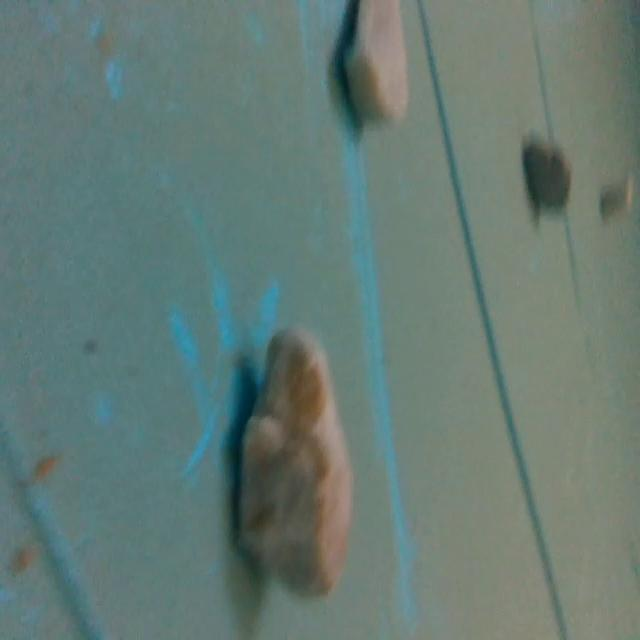rock: (226, 326, 371, 608), (335, 0, 412, 132), (517, 133, 577, 220)
